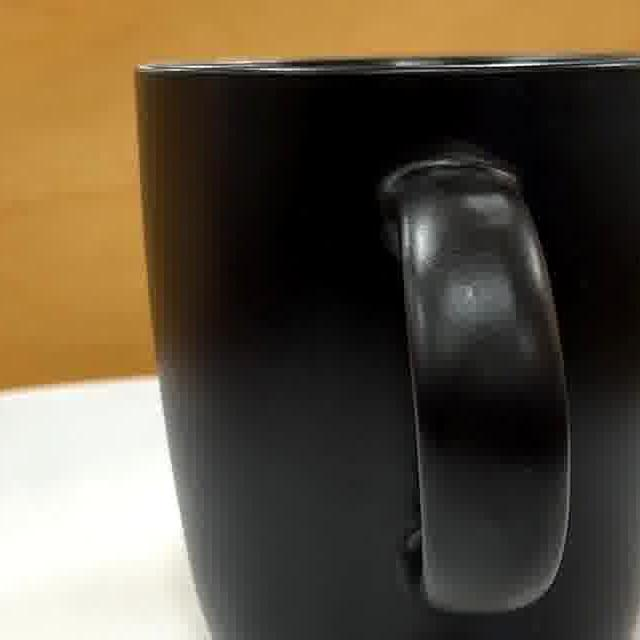cup: (143, 60, 640, 640)
